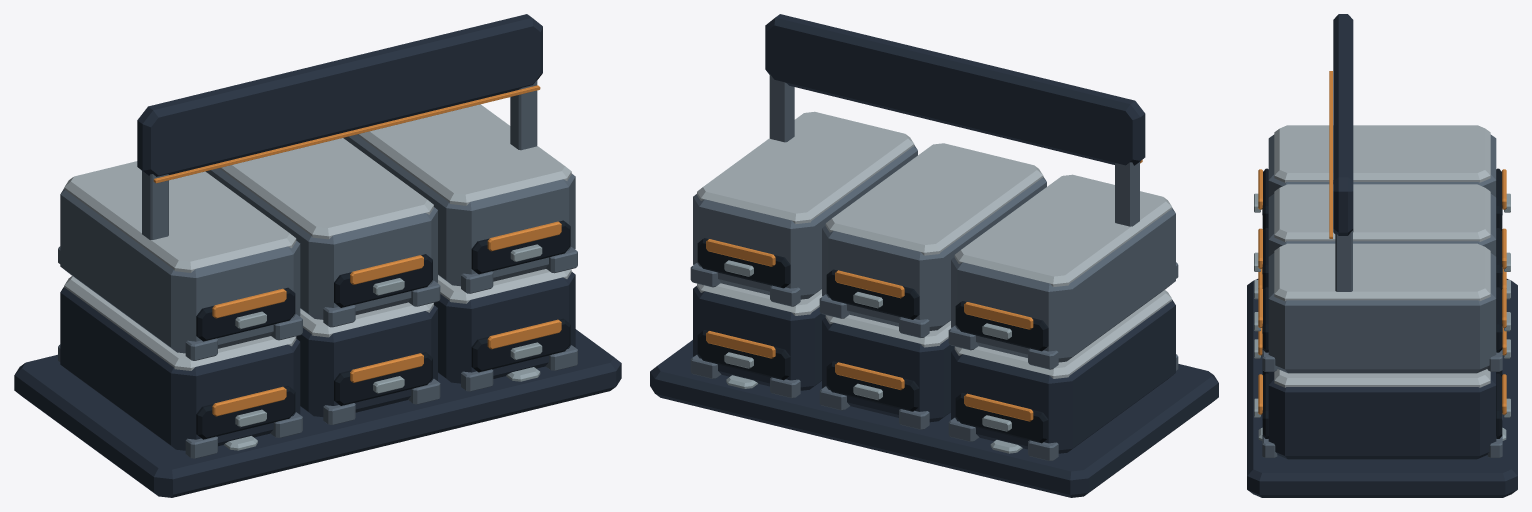
File: supply_rack.glb
3 views of the same model, side by side, from view 1: azimuth 30°, elevation 25°; view 2: azimuth 150°, elevation 25°; view 3: azimuth 270°, elevation 25° (orthographic). The views are drawn at different scales.
Parts seen in each view (by area): view 1: supply_rack; view 2: supply_rack; view 3: supply_rack.
Boxes of the visible parts, <box> form: supply_rack: <box>14,14,621,497</box>; supply_rack: <box>650,14,1218,497</box>; supply_rack: <box>1247,14,1517,497</box>.
Bounding box in the file's own units: 2.65 × 1.87 × 1.51.
